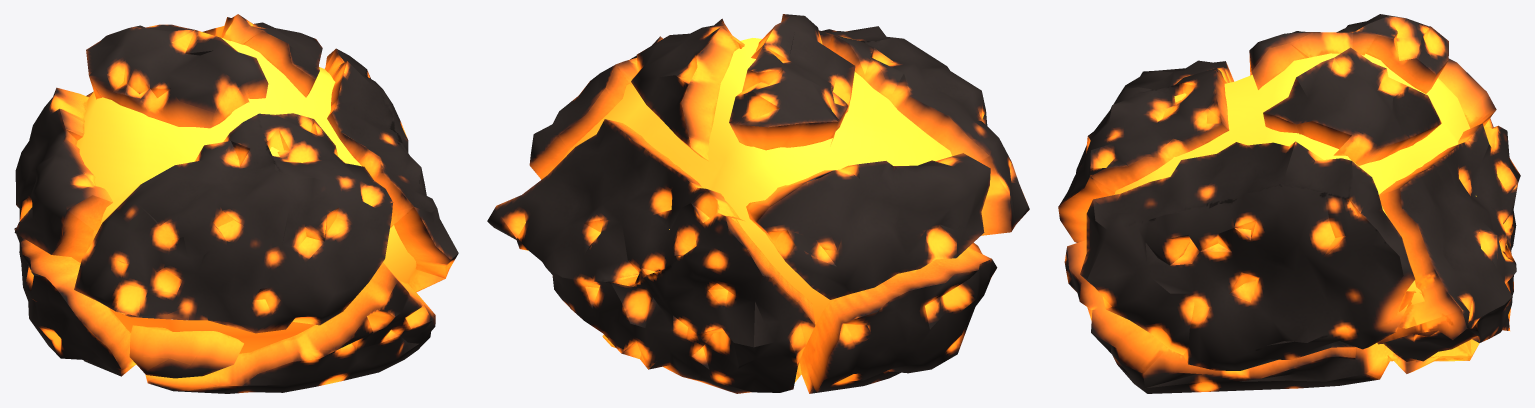
File: corazon_volcan.fbx
The picture shows the model from 3 angles, left to right: view 1: azimuth 30°, elevation 25°; view 2: azimuth 150°, elevation 25°; view 3: azimuth 270°, elevation 25°; orthographic projection. The views are drawn at different scales.
Parts seen in each view (by area): view 1: corazon_volcan, corazon_volcan_neon; view 2: corazon_volcan, corazon_volcan_neon; view 3: corazon_volcan, corazon_volcan_neon.
Boxes of the visible parts, x1,y1,x2,y2 form: corazon_volcan: (14,14,458,393); corazon_volcan_neon: (72,37,416,353); corazon_volcan: (487,14,1029,393); corazon_volcan_neon: (561,38,951,341); corazon_volcan: (1058,14,1520,393); corazon_volcan_neon: (1114,53,1476,304).
Size of the model in its own units: 3.11 by 2.18 by 2.99.
Materials: 2 (2 with a texture image).
